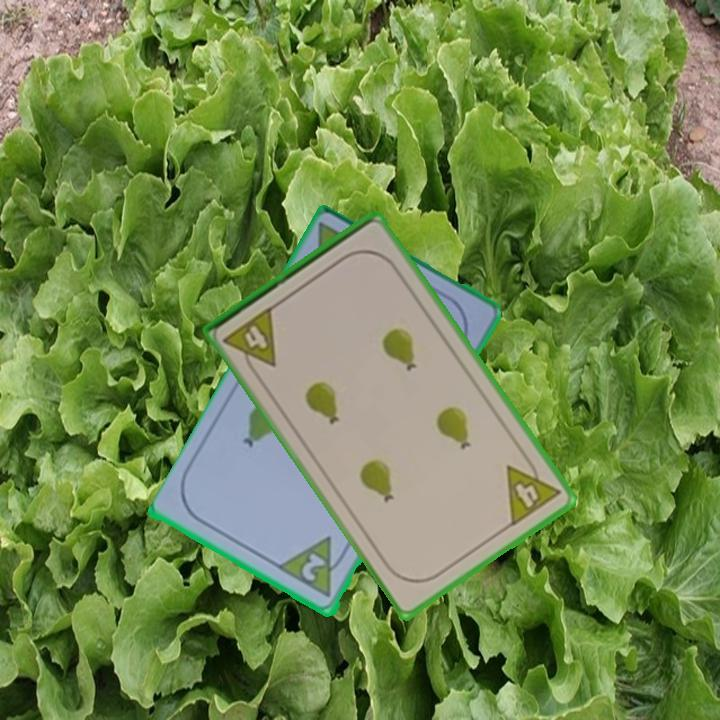2p: (298, 550, 329, 585)
4p: (503, 450, 564, 530), (220, 302, 280, 380)
